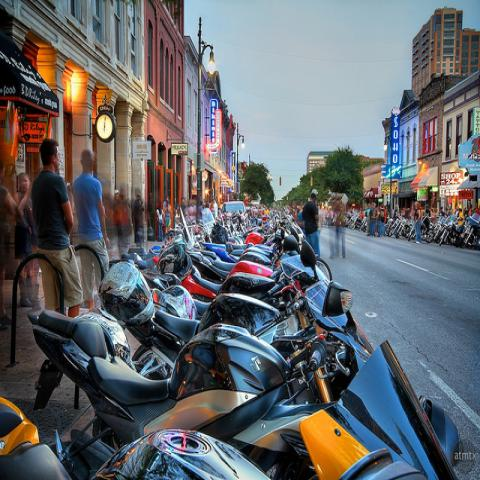car: (221, 200, 250, 222)
motorcycle: (28, 280, 375, 479), (0, 336, 461, 479), (128, 259, 342, 373), (201, 210, 444, 262), (182, 240, 300, 306), (191, 253, 301, 312), (282, 210, 332, 282), (193, 247, 283, 270), (228, 216, 280, 250), (243, 212, 281, 240), (438, 219, 466, 247), (459, 212, 479, 250), (396, 218, 409, 238)
